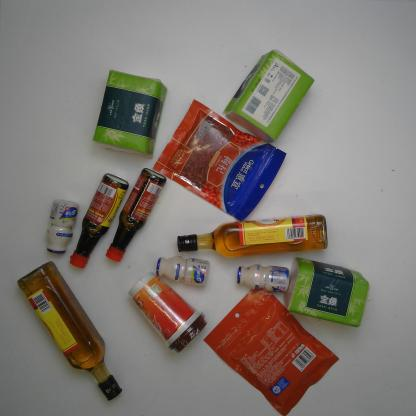Dried Fruit: (202, 285, 340, 416), (151, 97, 289, 222)
Instant Drink: (127, 270, 208, 354)
Milk: (42, 197, 80, 255), (156, 254, 211, 287), (235, 262, 291, 294)
Seasoner: (15, 260, 123, 402), (176, 213, 328, 259), (104, 166, 167, 264), (68, 172, 129, 270)
Tissue: (221, 49, 316, 144), (91, 68, 169, 158), (284, 257, 371, 330)
